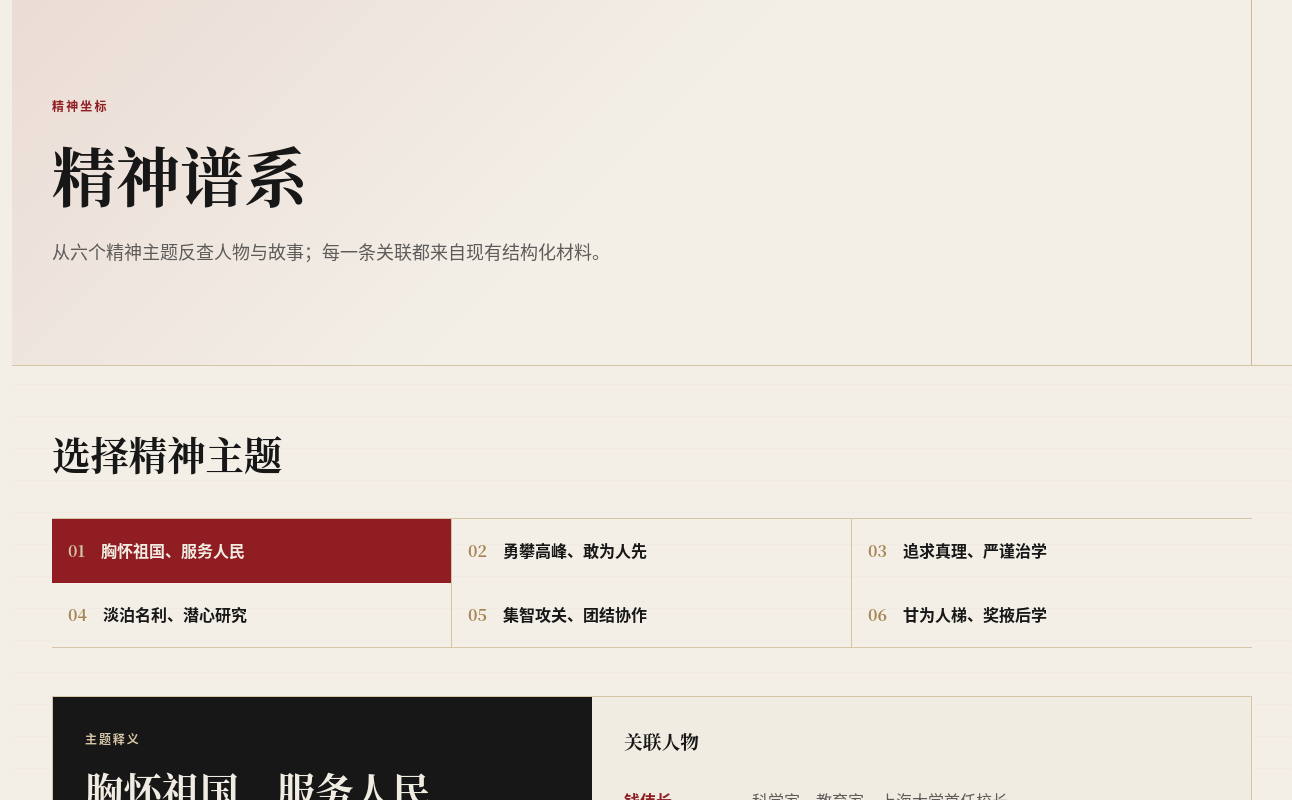
Test case: pushes the selected theme into the URL and gives themes without stories an honest state
Click the button "06 甘为人梯、奖掖后学".
click(975, 614)  # box [852,582,1252,646]
(page scrolled)
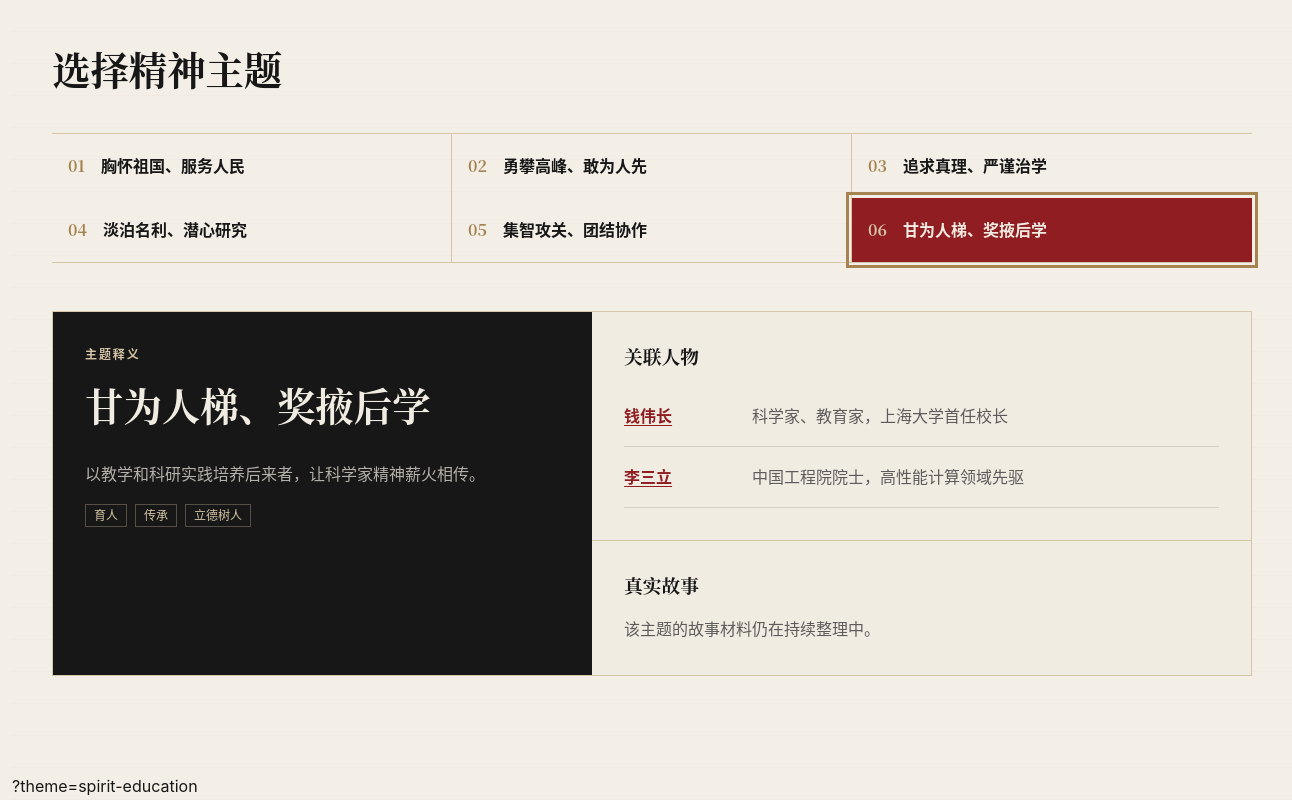
Expected: the link "钱伟长" is shown, [624,406,672,426]
Expected: the text named "当前主题参数" reads "?theme=spirit-education", [12,776,198,796]
Expected: the text "该主题的故事材料仍在持续整理中。" is shown, [624,619,880,639]
